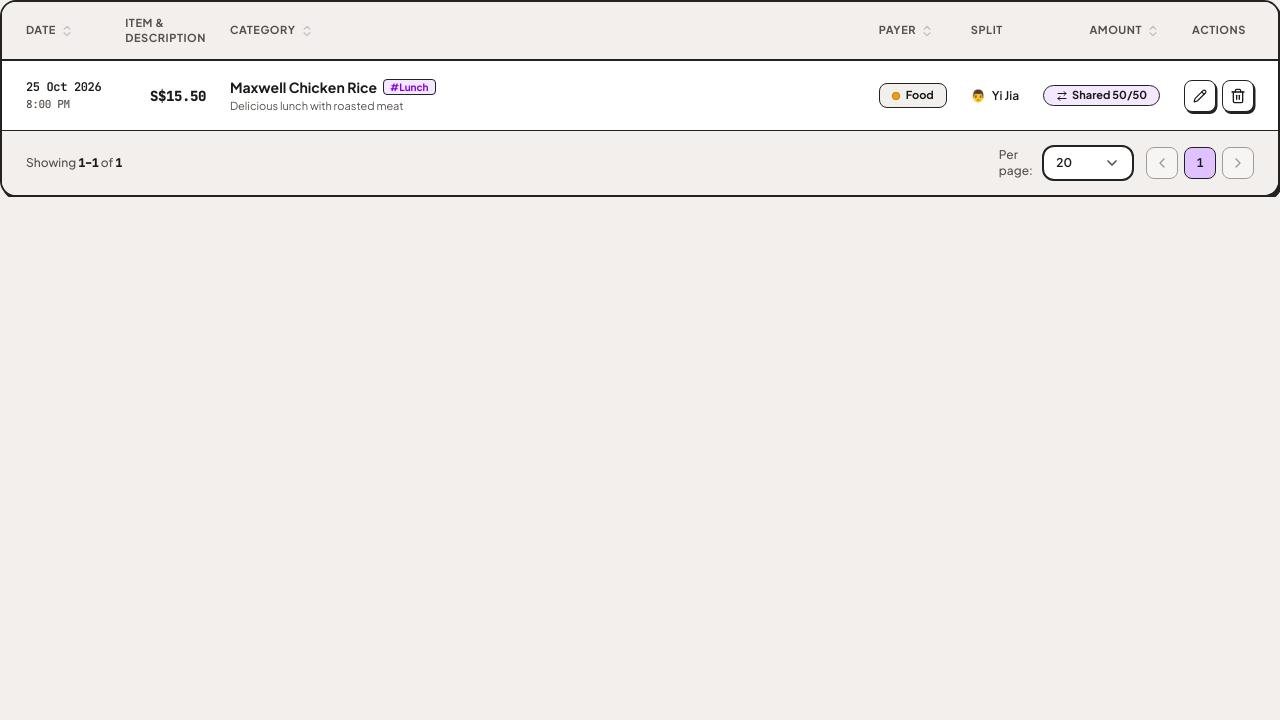
Scenario: Ledger Power Tools, Fast Log & Bulk Log › ExpenseListTable Sorting & Pagination › opens DeleteExpenseModal when clicking delete button
Click the button named "Delete Maxwell Chicken Rice".
click(1238, 96)  # box [1222, 80, 1254, 112]
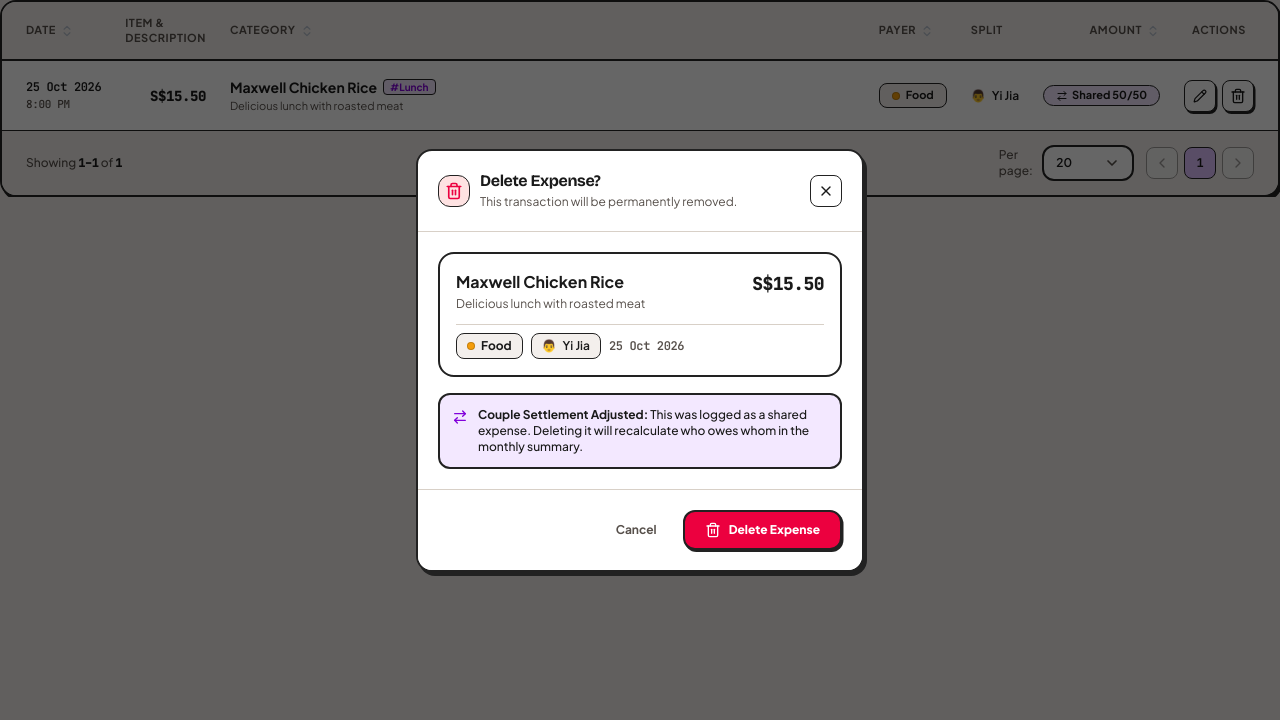
Now the heading "Delete Expense?" is shown, box [480, 170, 600, 190]
